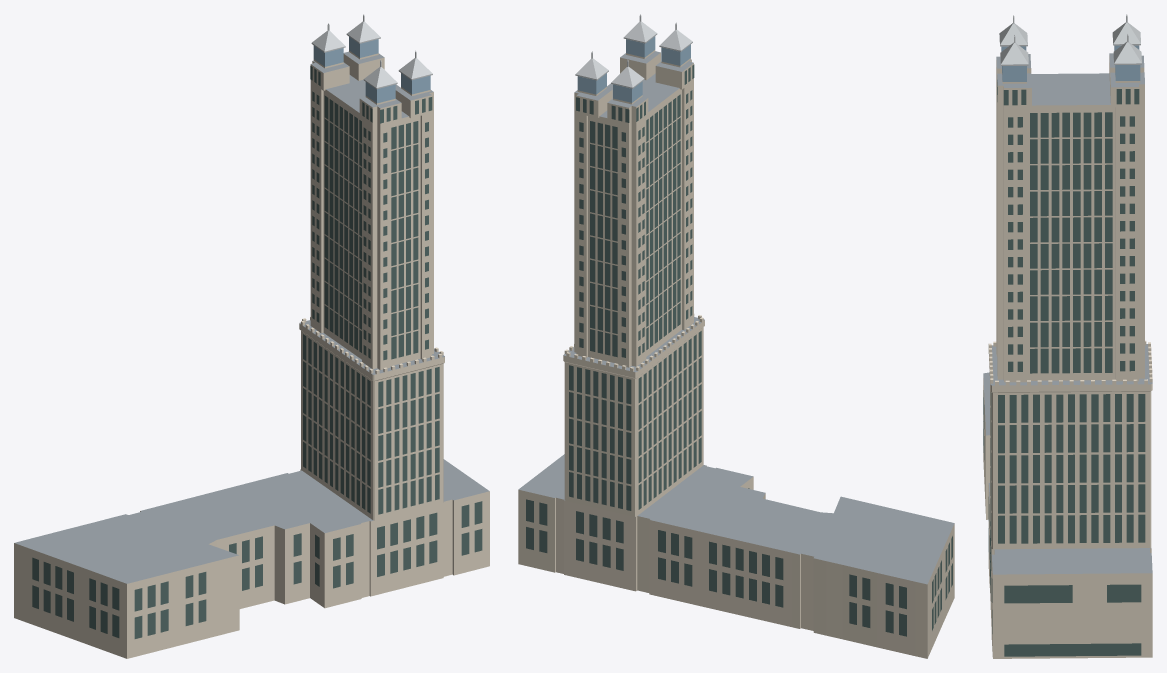
Rendered from detail.glb.
3 views of the same model, side by side, from view 1: azimuth 30°, elevation 25°; view 2: azimuth 150°, elevation 25°; view 3: azimuth 270°, elevation 25° (orthographic). The views are drawn at different scales.
Parts seen in each view (by area): view 1: 900-north-michigan; view 2: 900-north-michigan; view 3: 900-north-michigan.
Boxes of the visible parts, x1,y1,x2,y2 form: 900-north-michigan: (14, 14, 489, 658); 900-north-michigan: (518, 14, 954, 658); 900-north-michigan: (983, 14, 1152, 658).
Bounding box in the file's own units: 217 × 265 × 69.15.
